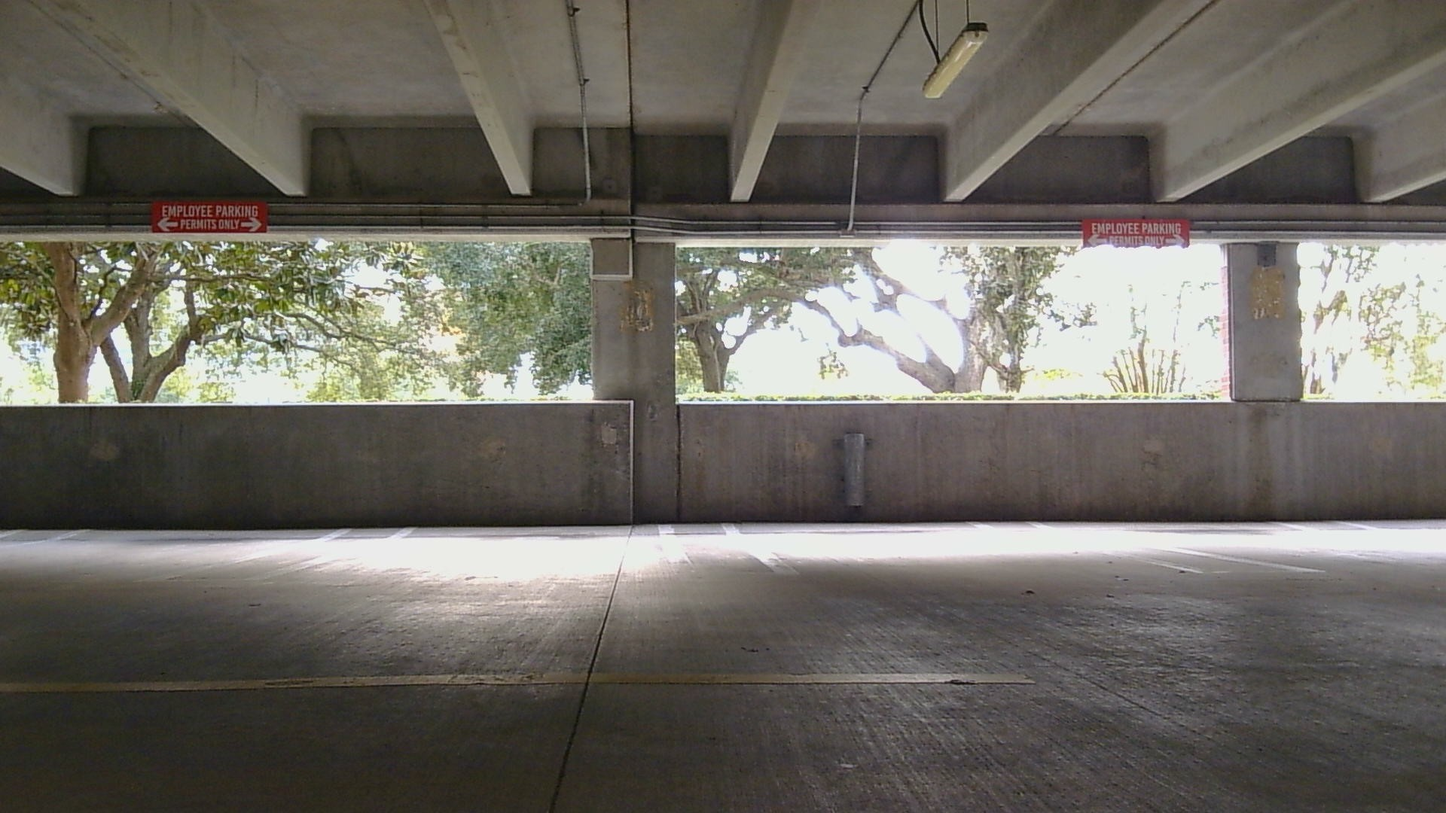empty_spot: (1000, 410, 1446, 608), (695, 455, 1252, 580), (204, 452, 699, 583), (0, 457, 367, 591)
